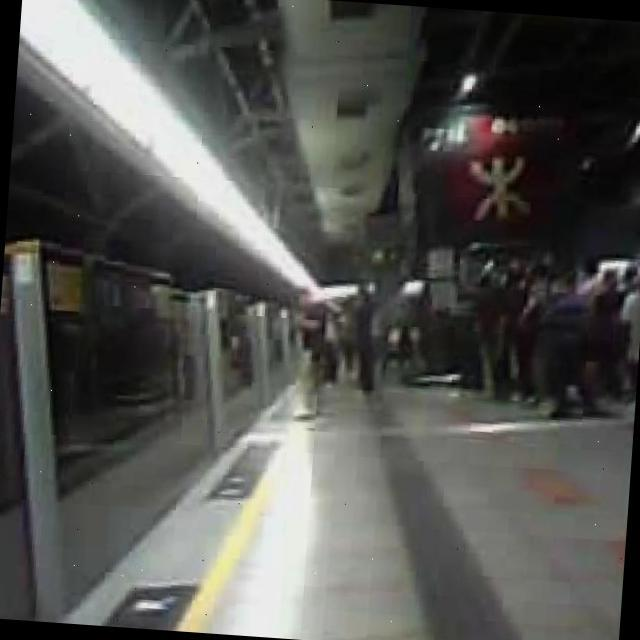person: (529, 269, 597, 423), (572, 267, 627, 412), (510, 264, 550, 406), (609, 267, 640, 423)
